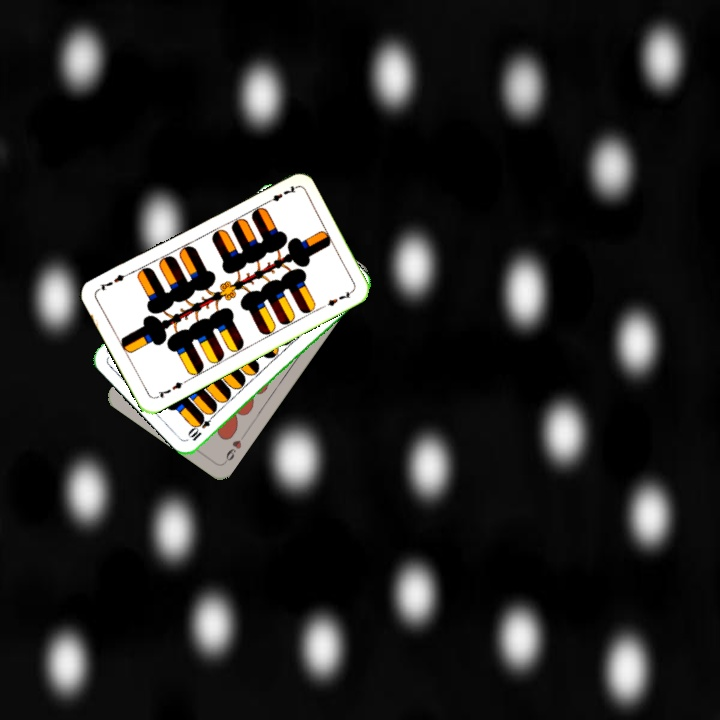E10: (185, 409, 218, 444)
E7: (151, 376, 189, 401), (261, 182, 298, 207)
H9: (220, 430, 248, 466)
